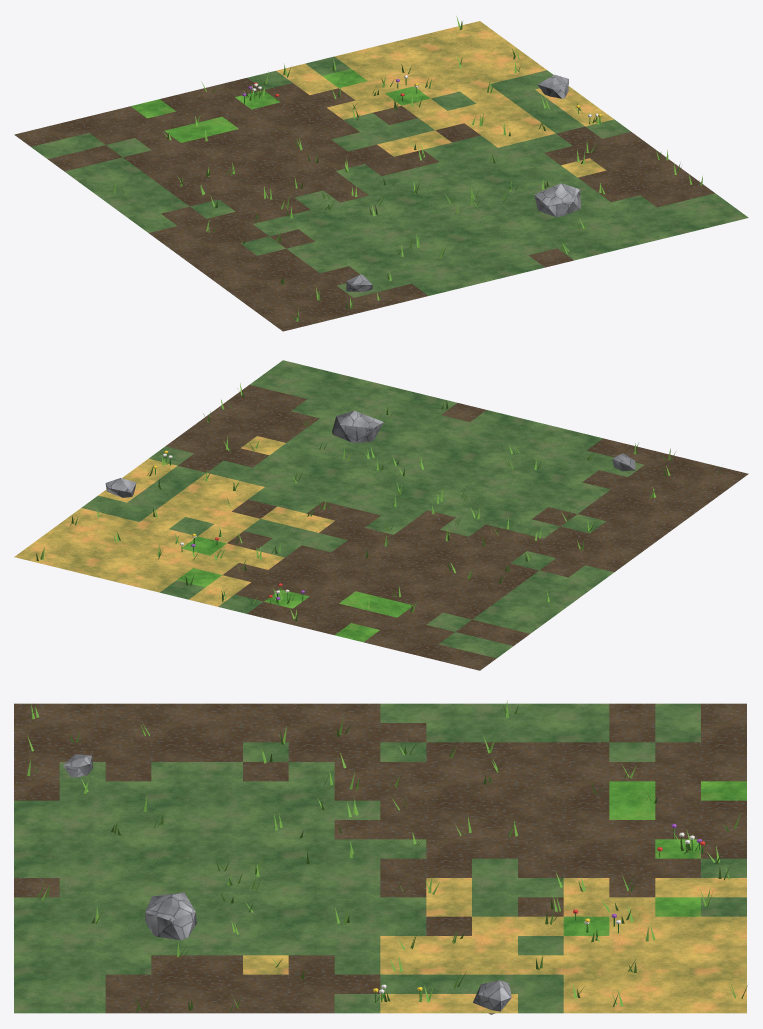
The model's file is chunk_0_14.glb.
3 views of the same model, one above another, from view 1: azimuth 30°, elevation 25°; view 2: azimuth 150°, elevation 25°; view 3: azimuth 270°, elevation 25° (orthographic). The views are drawn at different scales.
Visible parts, largest first — view 1: chunk_0_14; view 2: chunk_0_14; view 3: chunk_0_14.
Boxes of the visible parts, bbox=[...] form: chunk_0_14: bbox=[14, 16, 748, 331]; chunk_0_14: bbox=[14, 360, 748, 670]; chunk_0_14: bbox=[14, 700, 747, 1014].
Size of the model in its own units: 16.02 by 1.19 by 16.05.
11 materials, 6 textured.
